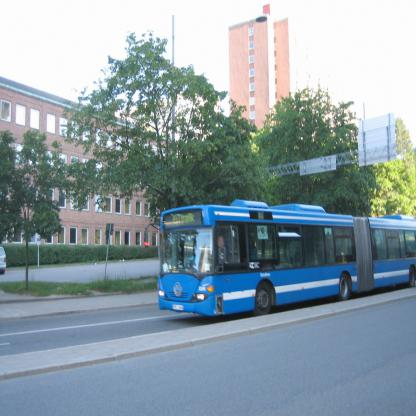Bus: (144, 200, 416, 321)
